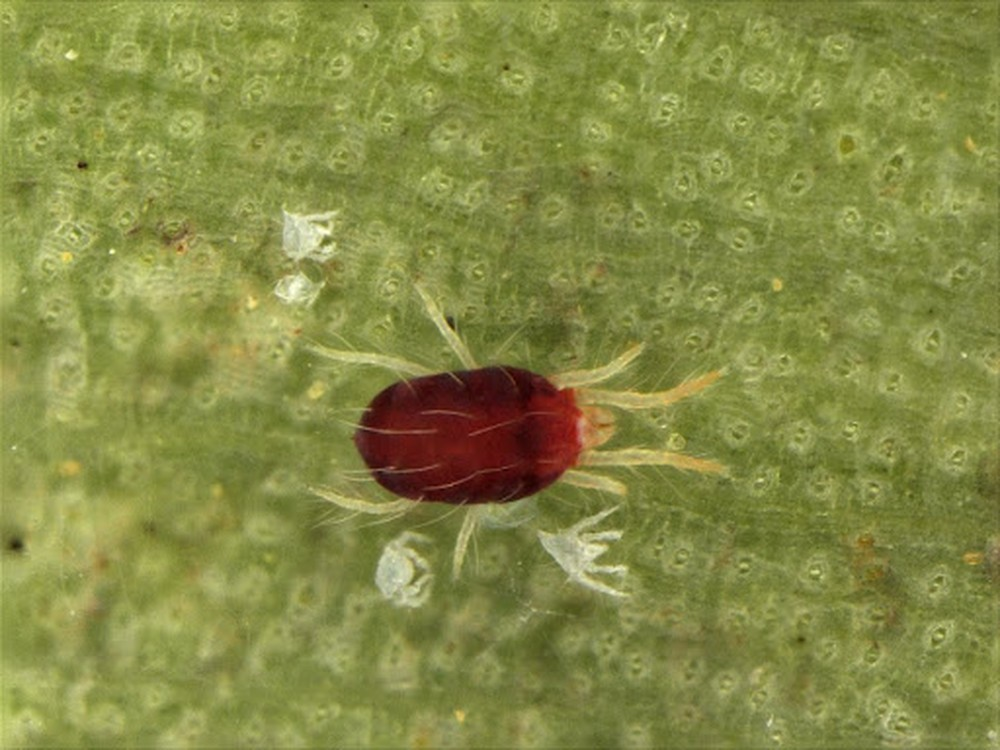Aracnido Rojo: (277, 282, 761, 558)
